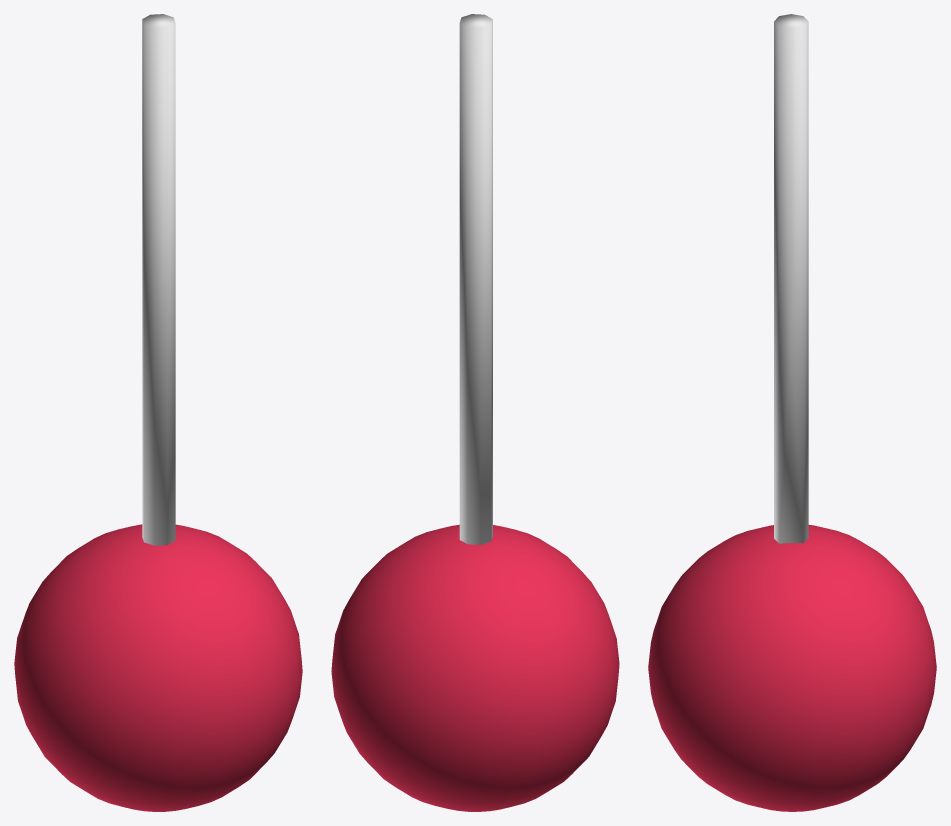
File: Lamp.fbx
3 renders of one model, left to right at view 1: azimuth 30°, elevation 25°; view 2: azimuth 150°, elevation 25°; view 3: azimuth 270°, elevation 25°, orthographic.
Visible parts, largest first — view 1: Lamp_LOD0; view 2: Lamp_LOD0; view 3: Lamp_LOD0.
Boxes of the visible parts, x1,y1,x2,y2 form: Lamp_LOD0: (14,14,302,811); Lamp_LOD0: (331,14,619,811); Lamp_LOD0: (648,14,936,811).
Size of what is drawn, in the model's own units: 50.42 by 150 by 50.42.
